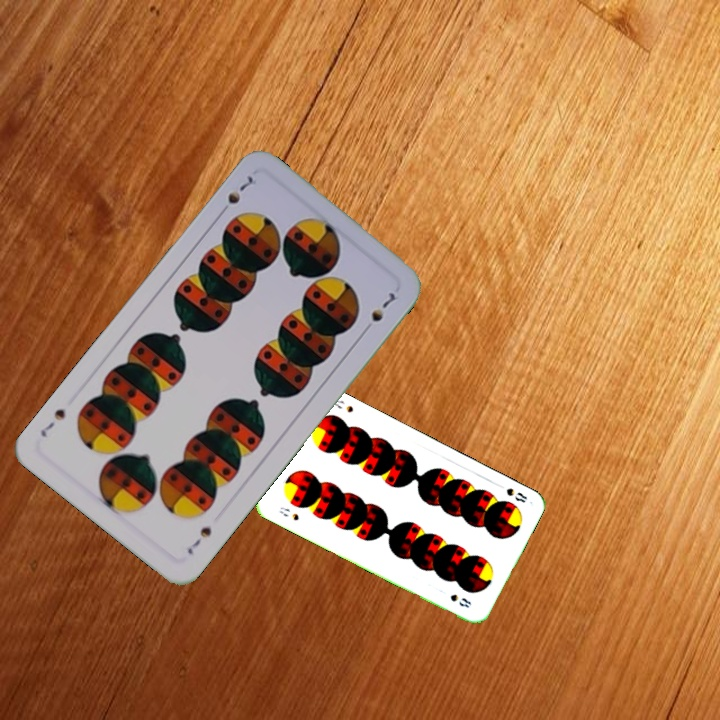S7: (214, 172, 258, 219), (183, 522, 214, 557)
S8: (493, 480, 530, 505), (275, 503, 301, 523)
